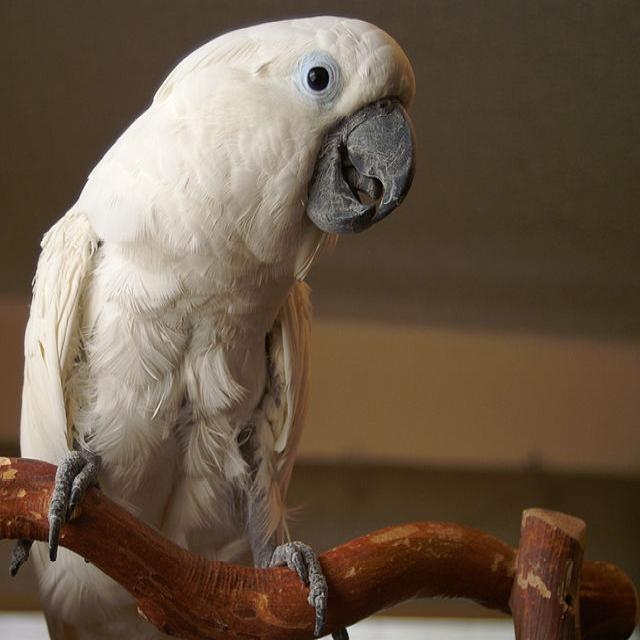Kakatua Putih: (10, 0, 432, 640)
